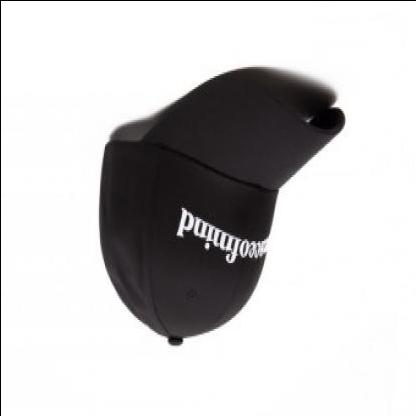cap: (87, 68, 360, 352)
